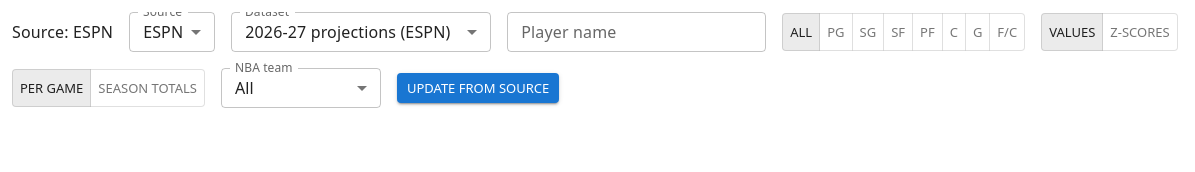
renders a Source select that includes ESPN
The width and height of the screenshot is (1195, 172).
Expected: the text "Source: ESPN" is shown, [12,20,113,44]
Step 1. Press the mouse on the dropdown named "source" → [163, 32], box [143,20,183,42]
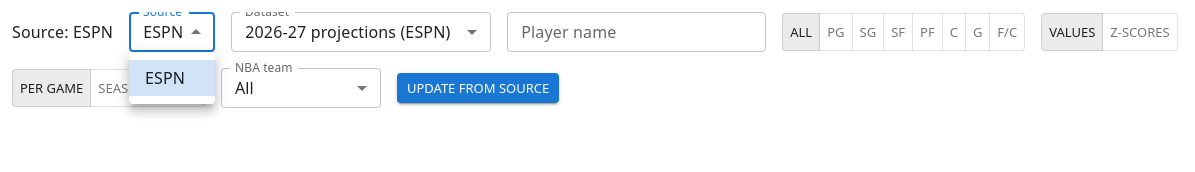
Now the option "ESPN" is shown, box [129,60,215,96]
